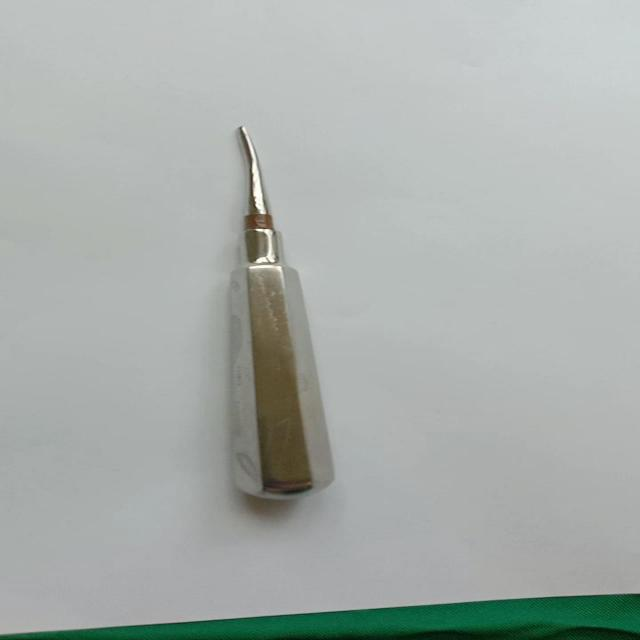Coupland1: (213, 119, 353, 504)
